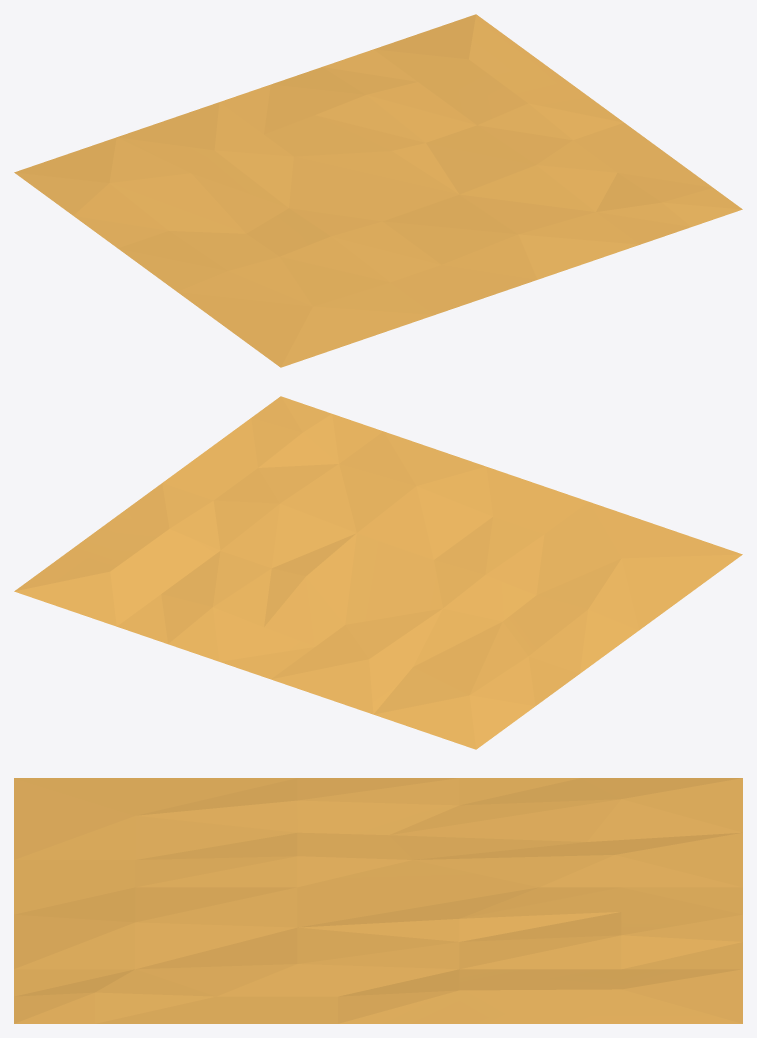
File: Sand_02.fbx
3 renders of one model, top to bottom at view 1: azimuth 30°, elevation 25°; view 2: azimuth 150°, elevation 25°; view 3: azimuth 270°, elevation 25°, orthographic. The views are drawn at different scales.
Visible parts, largest first — view 1: Sand_02; view 2: Sand_02; view 3: Sand_02.
Boxes of the visible parts, x1,y1,x2,y2 form: Sand_02: (14, 14, 742, 367); Sand_02: (14, 396, 742, 749); Sand_02: (14, 778, 742, 1023).
Size of the model in its own units: 1200 by 113 by 1200.
